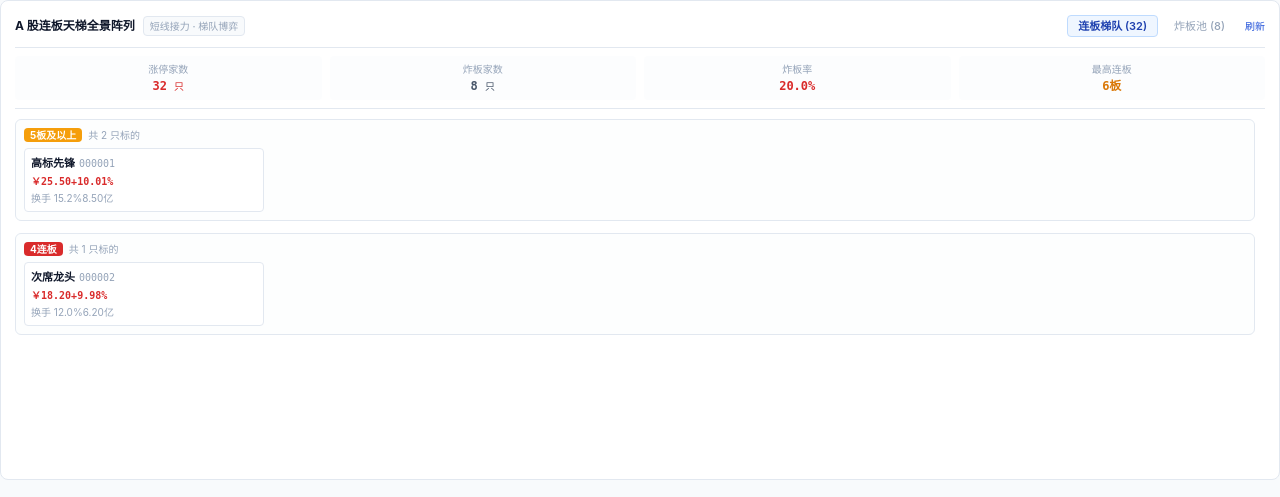
LimitLadderCard 连板天梯与炸板池组件 › 点击炸板池 Tab 切换至炸板预警标的
The width and height of the screenshot is (1280, 497).
Click the button "炸板池 (8)" at [1200, 26], box x1=1164 y1=16 x2=1235 y2=36
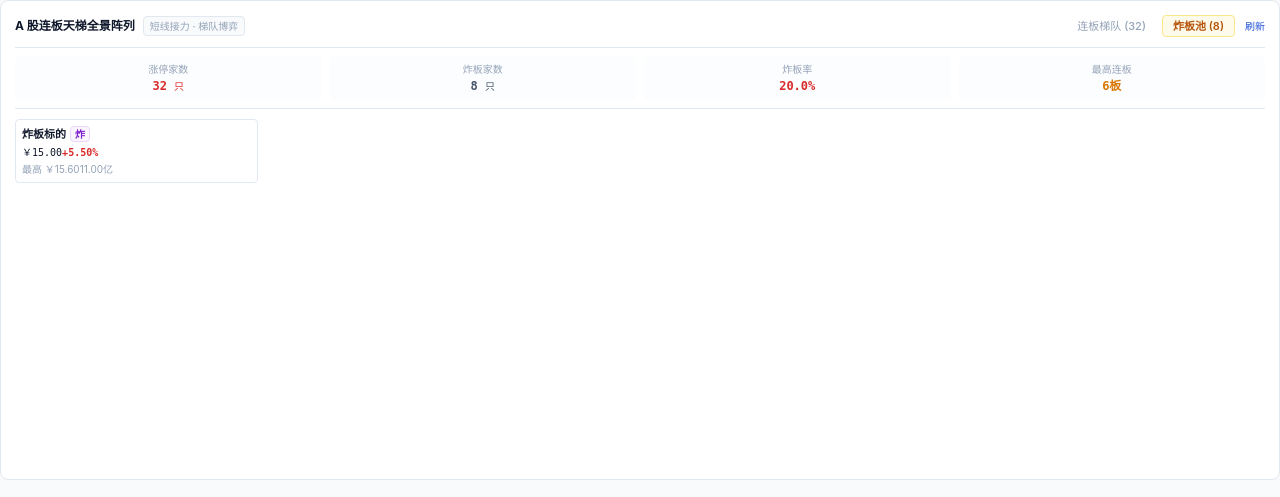
Expected: the text "炸板标的" is shown, x1=22 y1=126 x2=66 y2=142
Expected: the text "￥15.00" is shown, x1=22 y1=146 x2=62 y2=160
